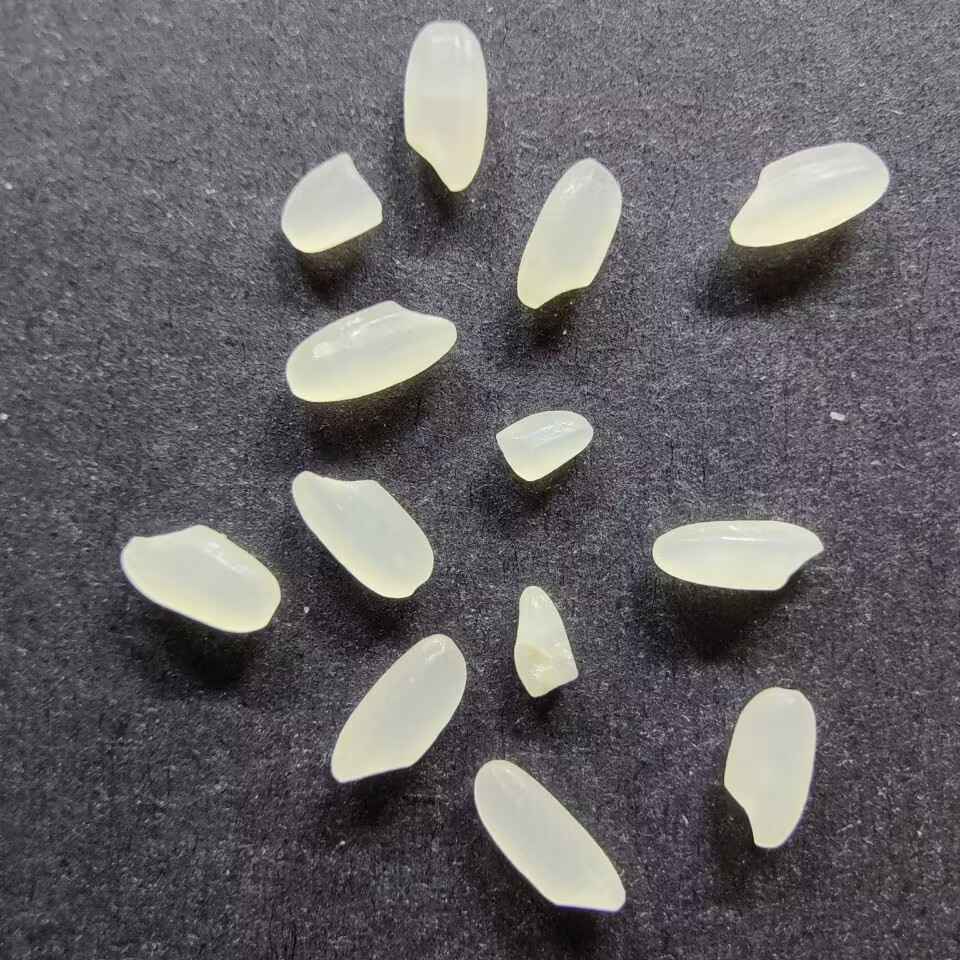broken: (279, 152, 384, 255), (514, 582, 581, 698), (493, 408, 594, 484)
rice: (473, 758, 625, 913), (328, 634, 469, 786), (291, 467, 436, 600), (120, 522, 282, 635), (284, 298, 458, 403), (727, 141, 891, 248), (514, 157, 623, 310), (722, 686, 817, 849), (402, 19, 488, 193), (648, 517, 826, 592)
